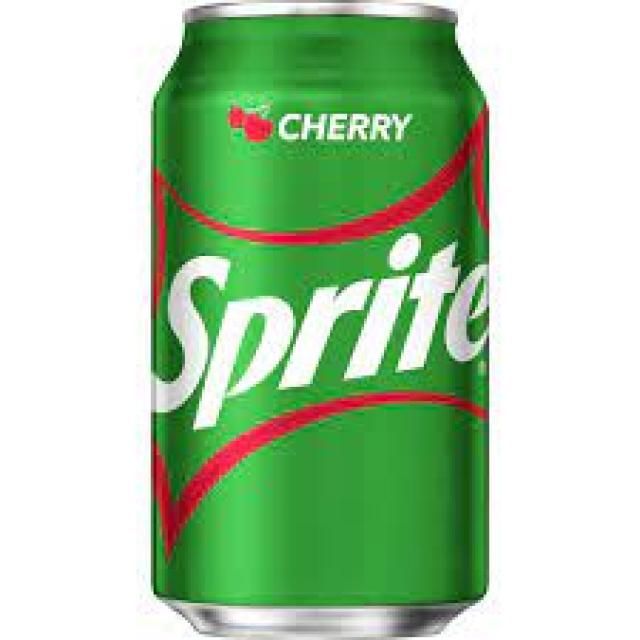aluminum_can: (154, 3, 489, 634)
